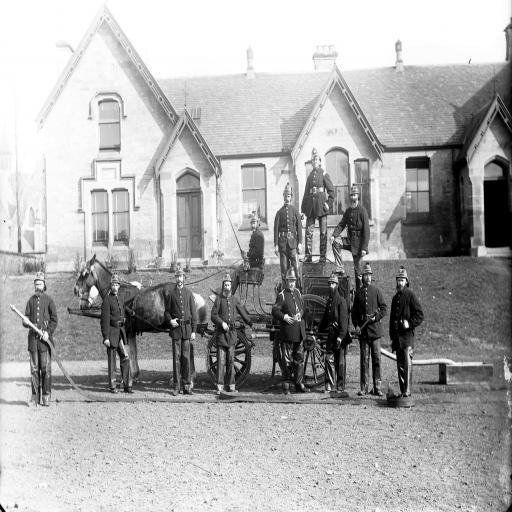horse: (74, 252, 198, 388), (78, 284, 206, 381)
